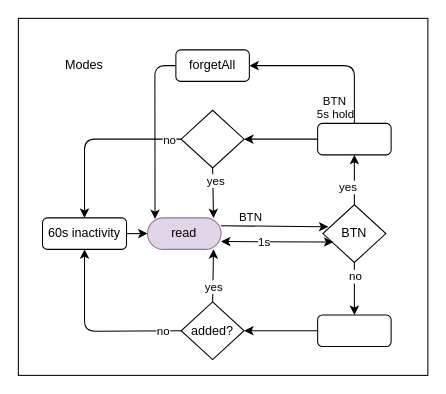
Some shapes in this 446 by 394 pixel diagram are drawn without their labels. Here are the shapes that lost their labels. From the top down, the centre of each, then its label:
point (212, 138): forgot?
point (354, 138): forget
point (354, 330): learn
